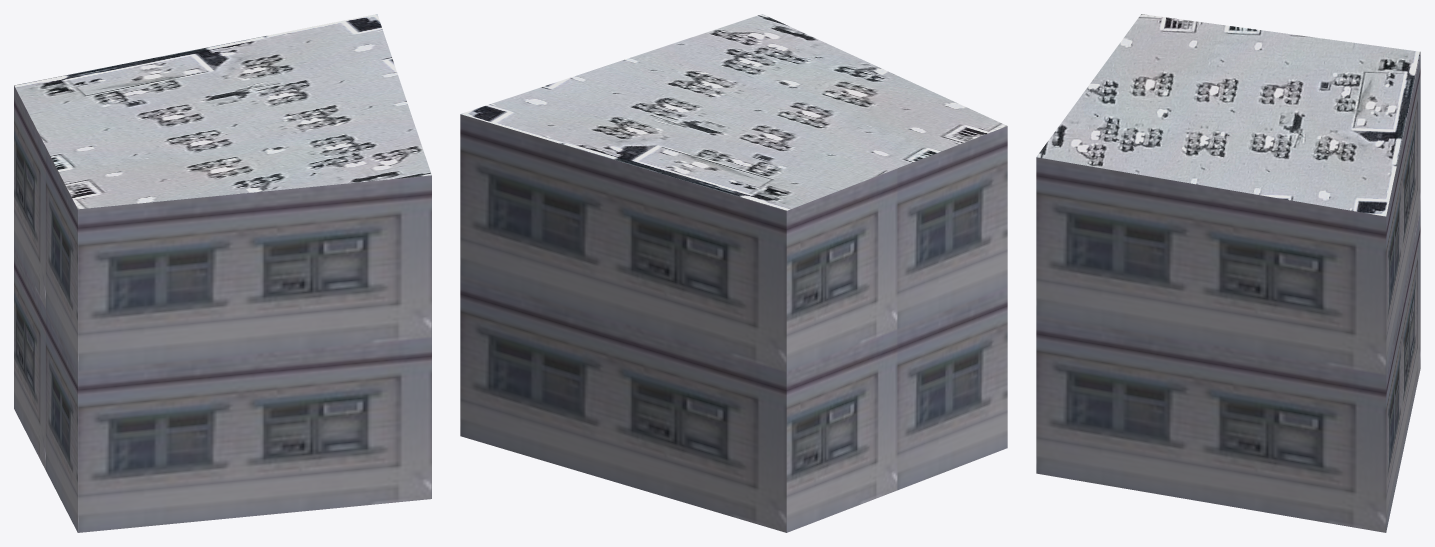
Rendered from ResTex__3981.fbx.
3 renders of one model, left to right at view 1: azimuth 30°, elevation 25°; view 2: azimuth 150°, elevation 25°; view 3: azimuth 270°, elevation 25°, orthographic. The views are drawn at different scales.
Parts seen in each view (by area): view 1: CityEngineMaterial_1_m, CityEngineMaterial_m; view 2: CityEngineMaterial_1_m, CityEngineMaterial_m; view 3: CityEngineMaterial_1_m, CityEngineMaterial_m.
Boxes of the visible parts, <box> form: CityEngineMaterial_1_m: <box>14,86,431,532</box>; CityEngineMaterial_m: <box>14,14,431,209</box>; CityEngineMaterial_1_m: <box>460,114,1007,532</box>; CityEngineMaterial_m: <box>460,14,1006,210</box>; CityEngineMaterial_1_m: <box>1036,53,1420,532</box>; CityEngineMaterial_m: <box>1036,14,1420,216</box>.
Bounding box in the file's own units: 8.24 × 6 × 6.61.
Materials: 2 (2 with a texture image).
